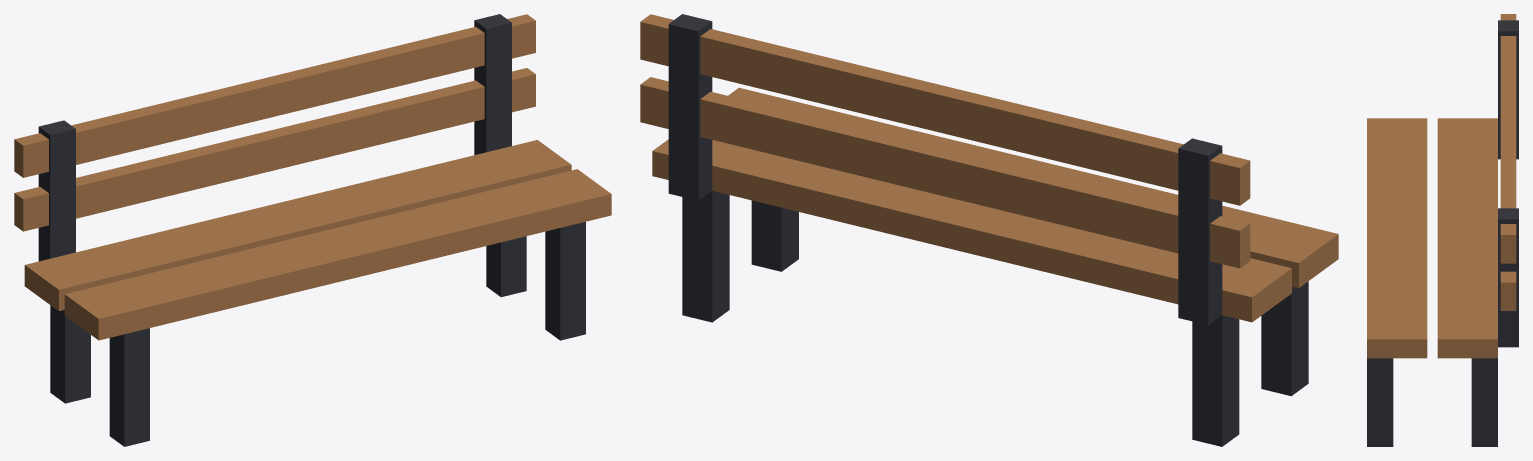
Rendered from park-bench.glb.
3 renders of one model, left to right at view 1: azimuth 30°, elevation 25°; view 2: azimuth 150°, elevation 25°; view 3: azimuth 270°, elevation 25°, orthographic. The views are drawn at different scales.
Parts seen in each view (by area): view 1: box-prop; view 2: box-prop; view 3: box-prop.
Boxes of the visible parts, x1,y1,x2,y2 form: box-prop: (14, 14, 611, 446); box-prop: (640, 14, 1338, 446); box-prop: (1367, 14, 1518, 446).
Bounding box in the file's own units: 2 × 0.96 × 0.58.
